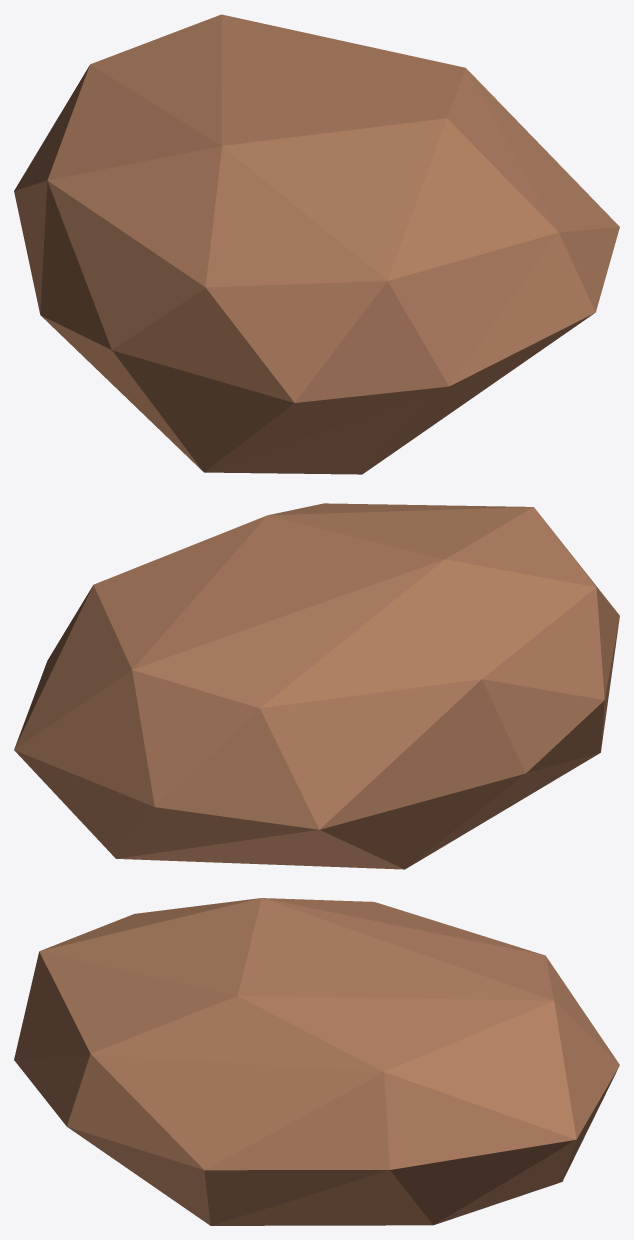
File: decor_rock_07.glb
3 renders of one model, top to bottom at view 1: azimuth 30°, elevation 25°; view 2: azimuth 150°, elevation 25°; view 3: azimuth 270°, elevation 25°, orthographic. The views are drawn at different scales.
Visible parts, largest first — view 1: decor_rock_07; view 2: decor_rock_07; view 3: decor_rock_07.
Boxes of the visible parts, bbox=[...] form: decor_rock_07: bbox=[14, 14, 619, 474]; decor_rock_07: bbox=[14, 503, 619, 869]; decor_rock_07: bbox=[14, 898, 619, 1225].
Bounding box in the file's own units: 1.58 × 0.9596 × 1.94.
